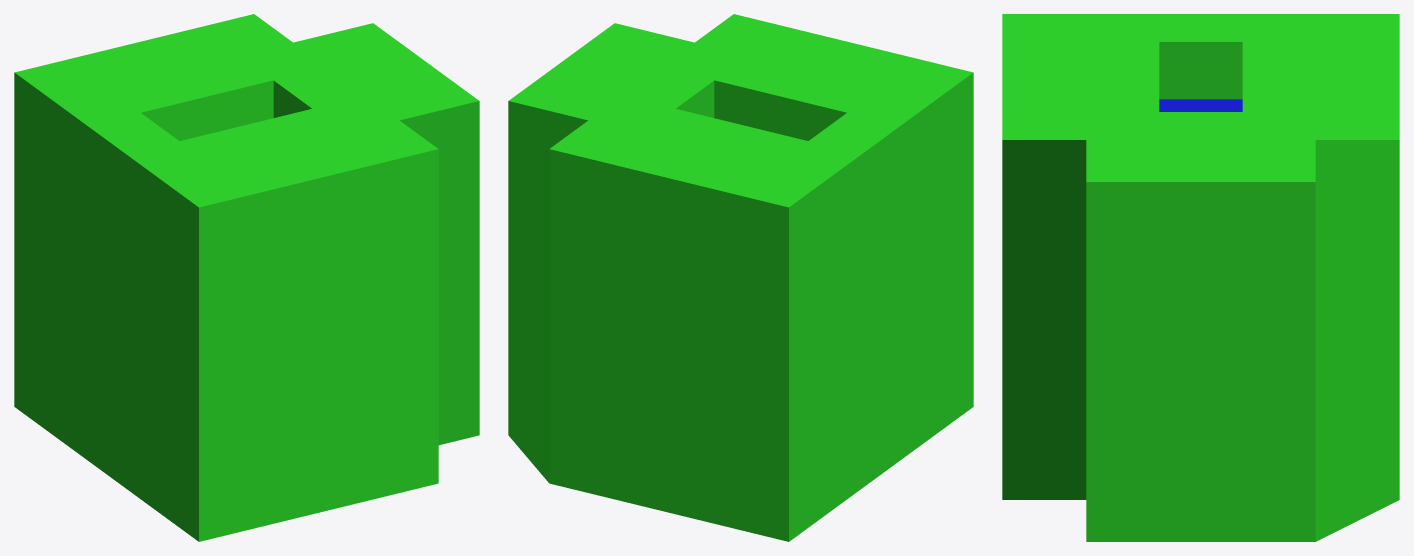
The picture shows the model from 3 angles, left to right: view 1: azimuth 30°, elevation 25°; view 2: azimuth 150°, elevation 25°; view 3: azimuth 270°, elevation 25°; orthographic projection. The views are drawn at different scales.
Visible parts, largest first — view 1: Cube; view 2: Cube; view 3: Cube.
Part boxes in pixels (bbox=[...]): Cube: bbox=[14, 14, 479, 541]; Cube: bbox=[508, 14, 973, 541]; Cube: bbox=[1002, 14, 1399, 541].
Size of the model in its own units: 200 by 200 by 200.
